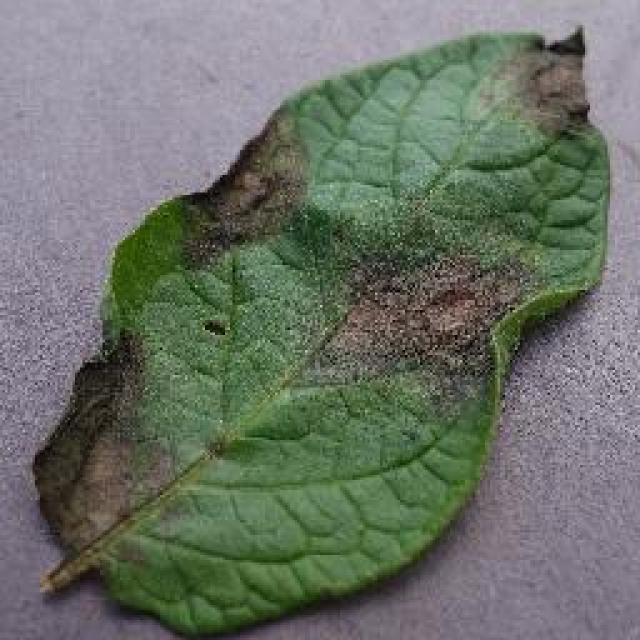Late_blight: (274, 236, 526, 393), (25, 322, 180, 557), (150, 99, 328, 256), (483, 20, 609, 143)
